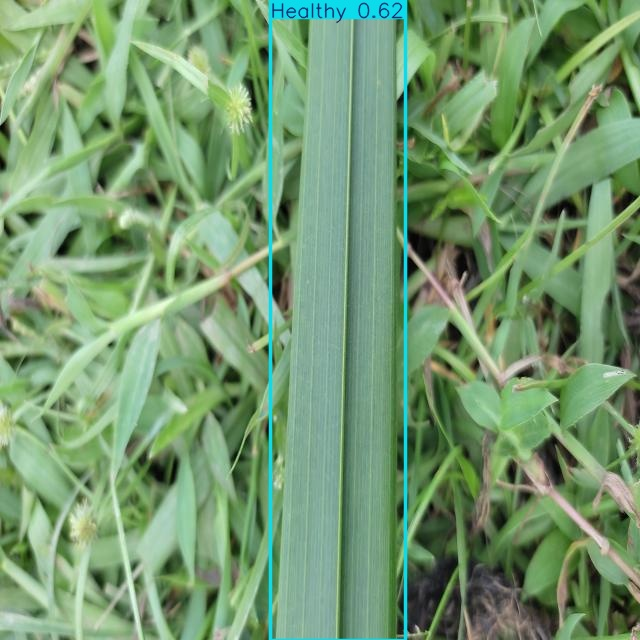Healthy: (270, 0, 406, 640)
